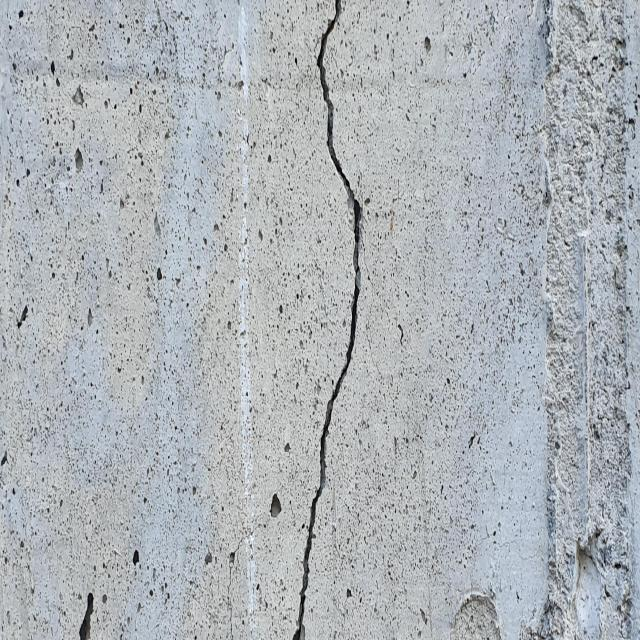SurfaceCrack: (250, 0, 405, 640), (493, 2, 640, 640)
